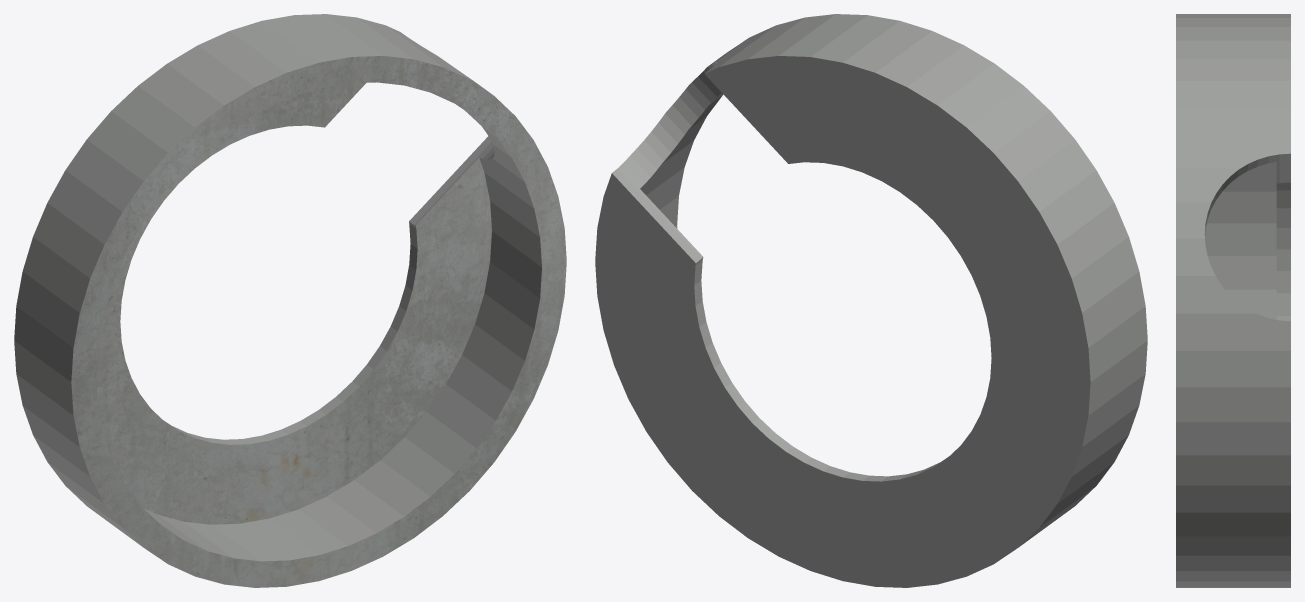
Rendered from pool_026.obj.
The picture shows the model from 3 angles, left to right: view 1: azimuth 30°, elevation 25°; view 2: azimuth 150°, elevation 25°; view 3: azimuth 270°, elevation 25°; orthographic projection.
Size of the model in its own units: 20 by 20 by 4.
